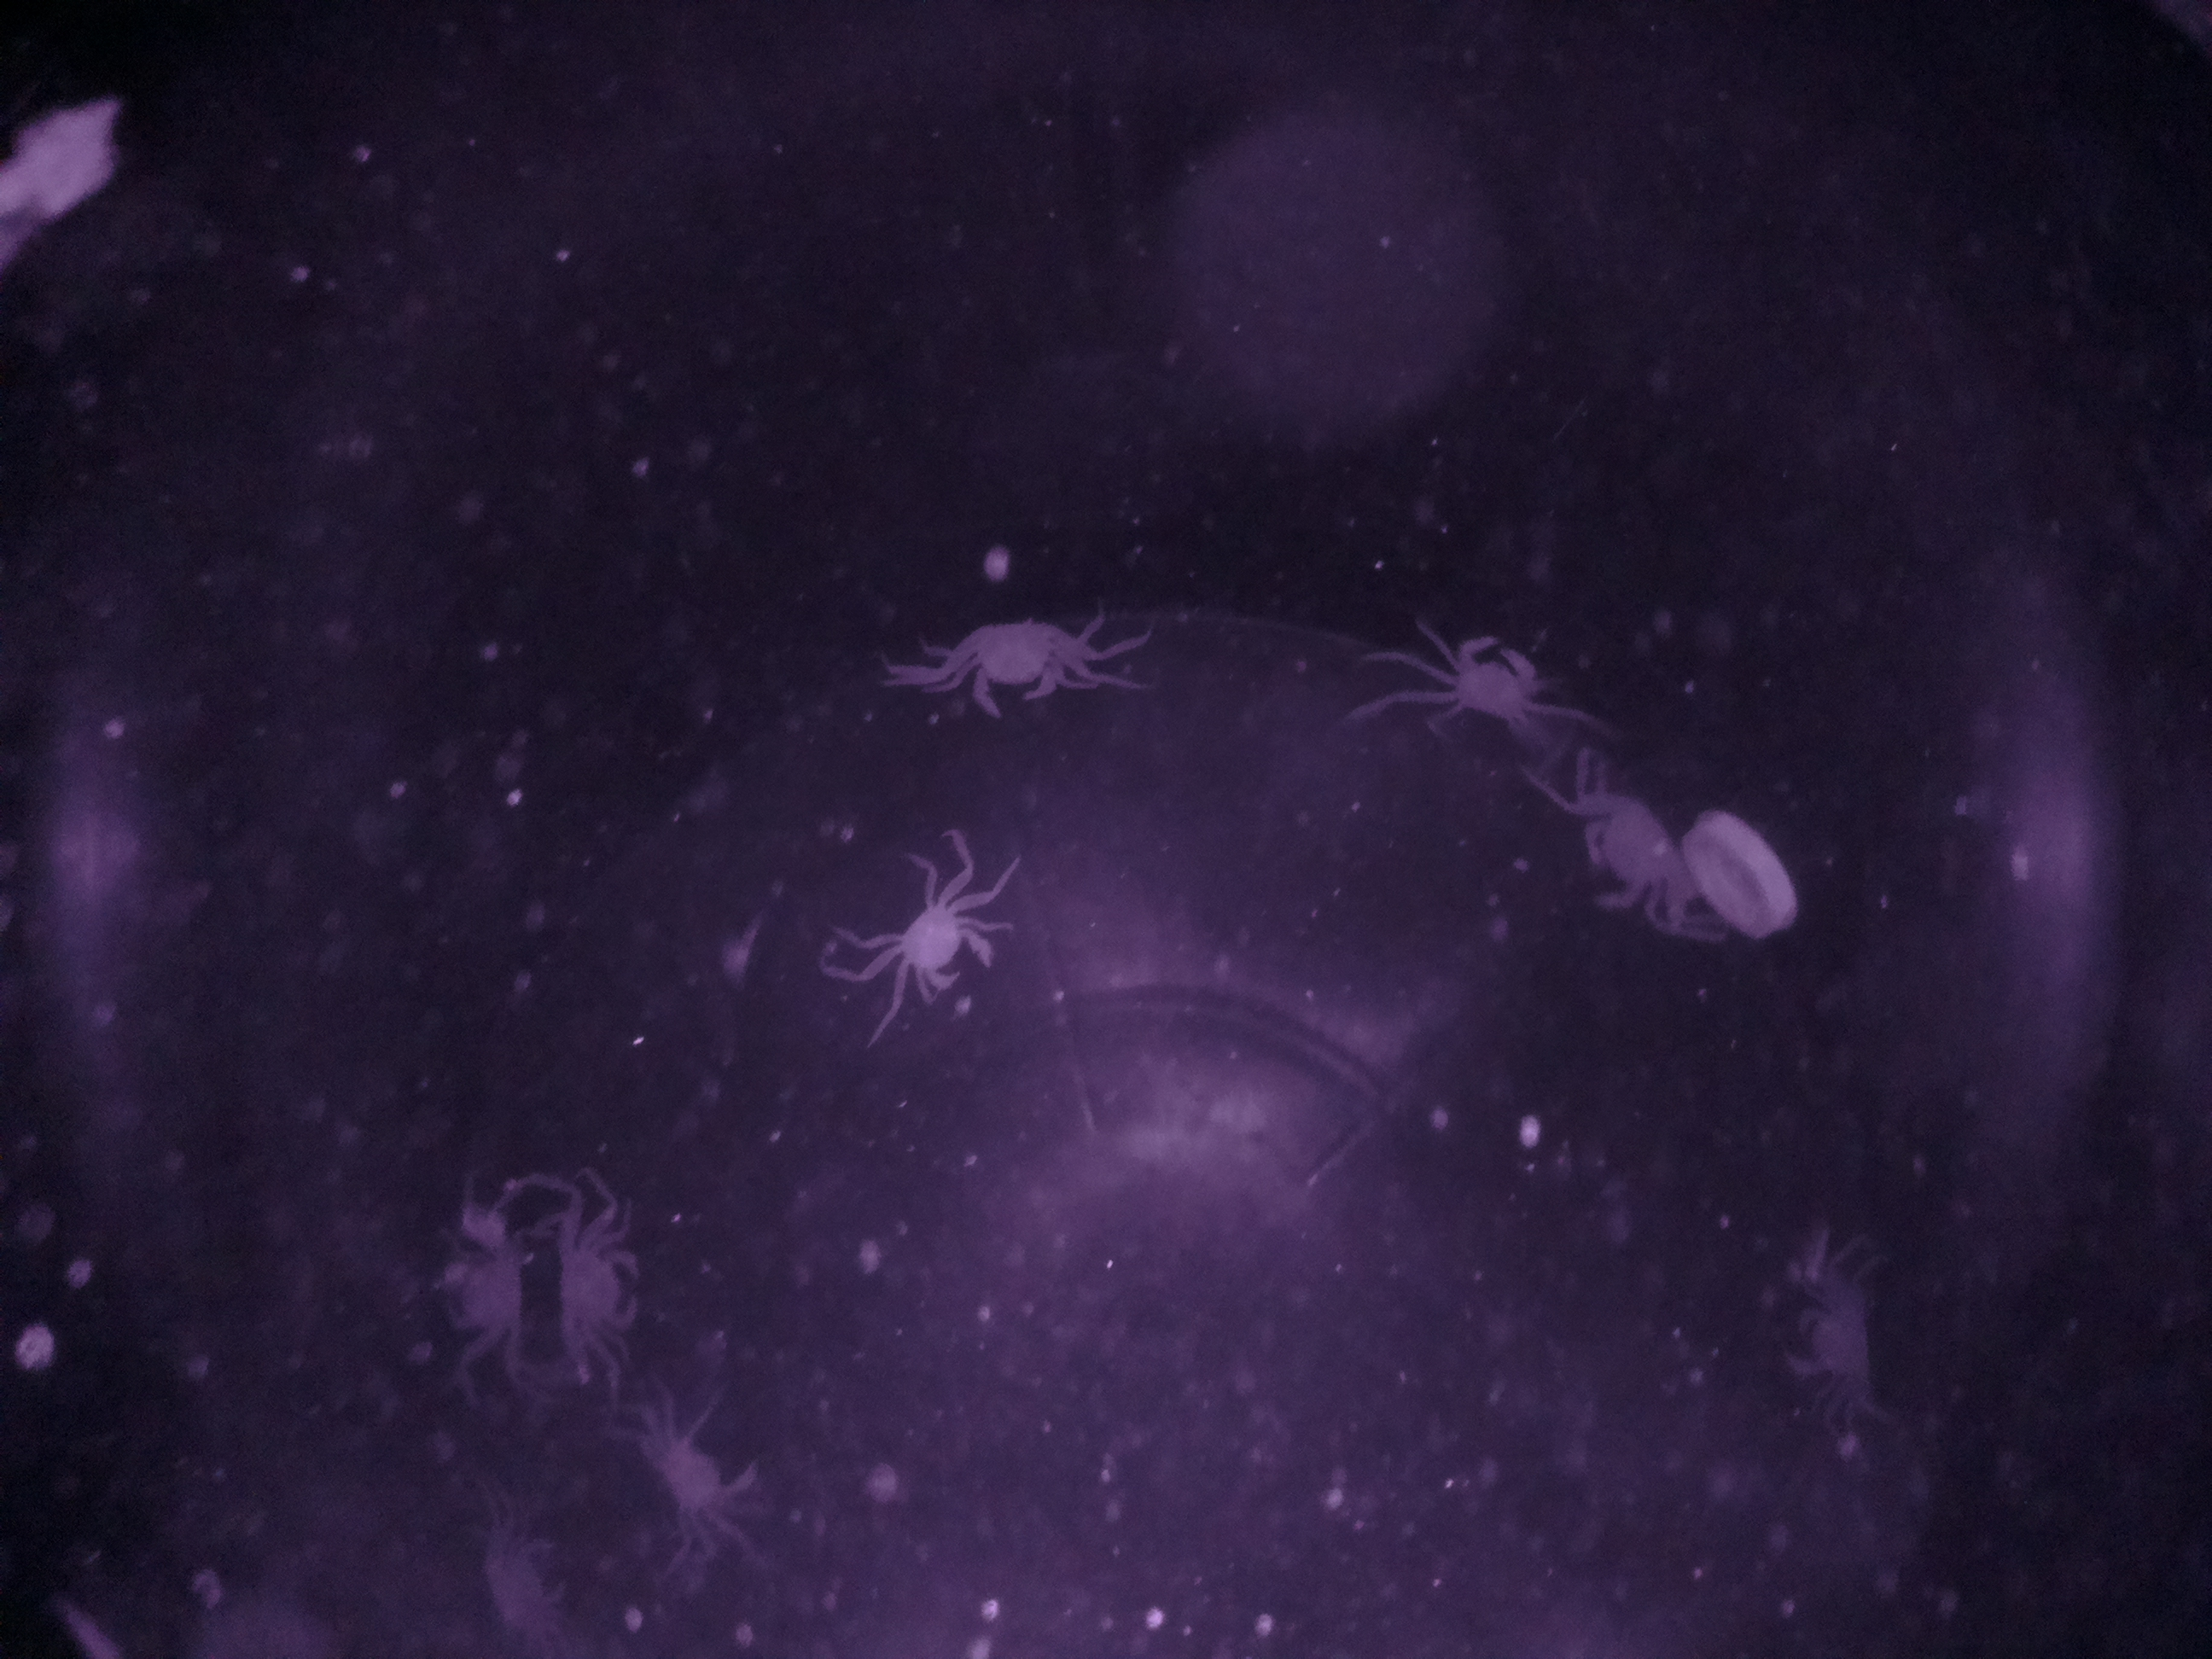Crab: (1552, 763, 1695, 927), (416, 1188, 533, 1384), (552, 1188, 657, 1403), (928, 594, 1090, 730), (876, 861, 1005, 1018), (1413, 633, 1561, 739)
